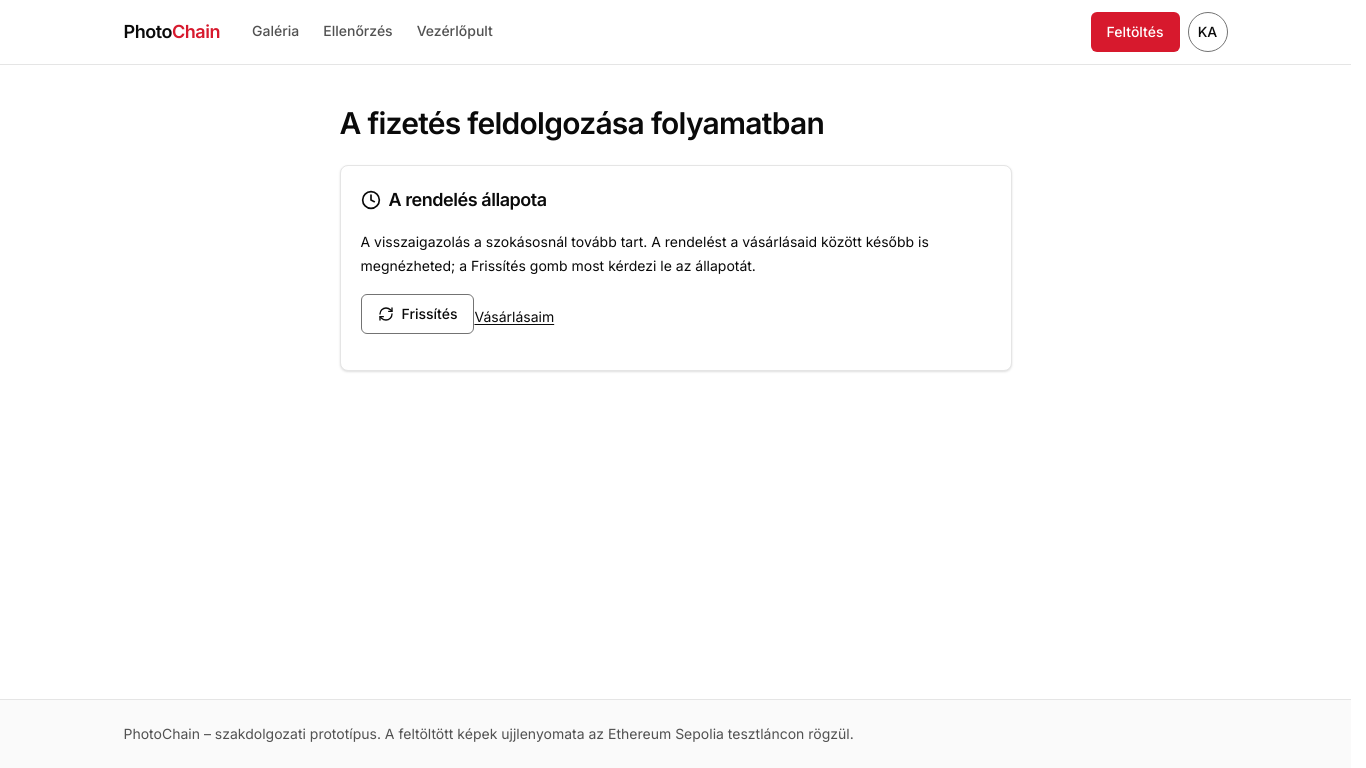
Scenario: CheckoutSuccessPage › tíz perc függés után a lekérdezés leáll: a töltésjelző eltűnik, a szöveg megmondja, hol nézhető meg később, és a „Frissítés” gomb kézzel kérdez
Expected: the heading "A fizetés feldolgozása folyamatban" is shown, [340,105,824,141]
Expected: the text "A visszaigazolás a szokásosnál tovább tart" is shown, [360,233,929,274]
Click the button "Frissítés": (418, 314) [360,294,474,334]
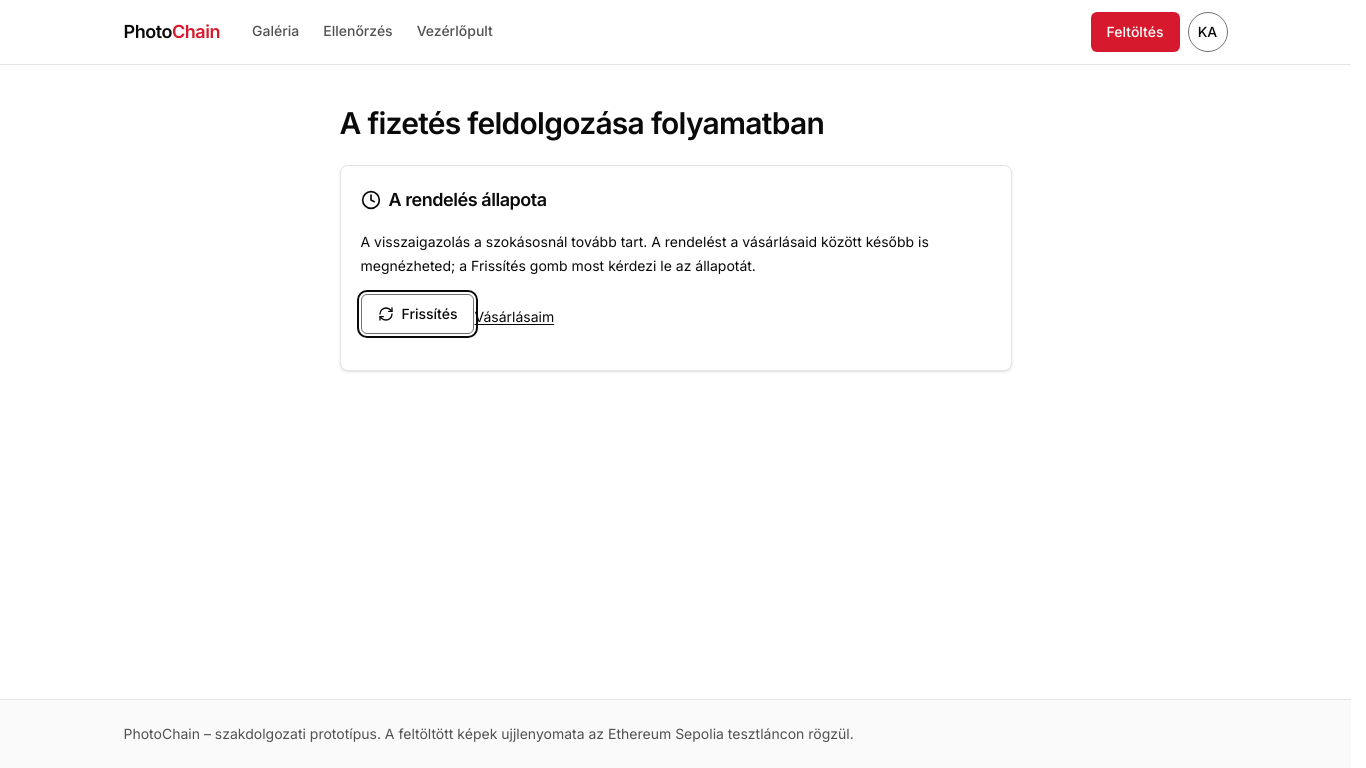
Click the button "Frissítés": (418, 314) [360,294,474,334]
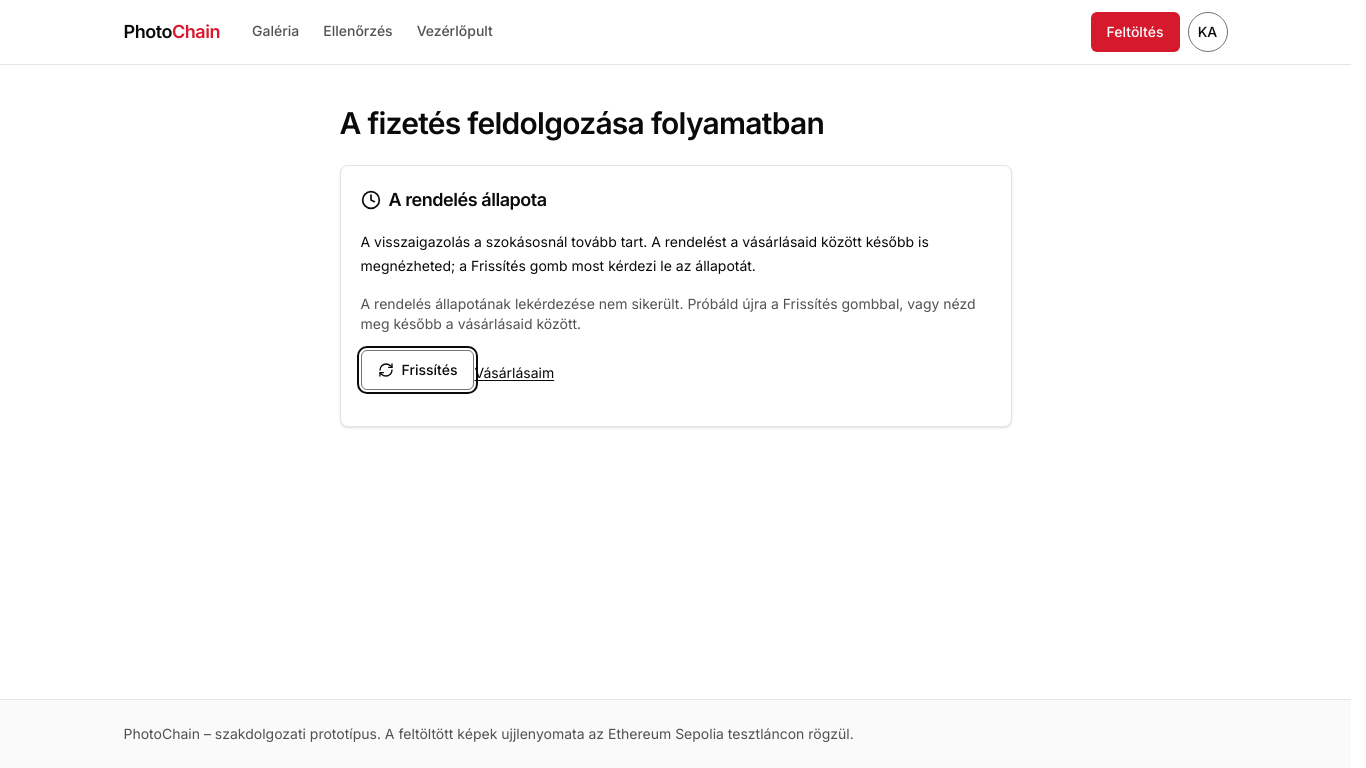
Now the text "A rendelés állapotának lekérdezése nem sikerült" is shown, box [360,295,976,332]
Click the button "Frissítés": (418, 370) [360,350,474,390]
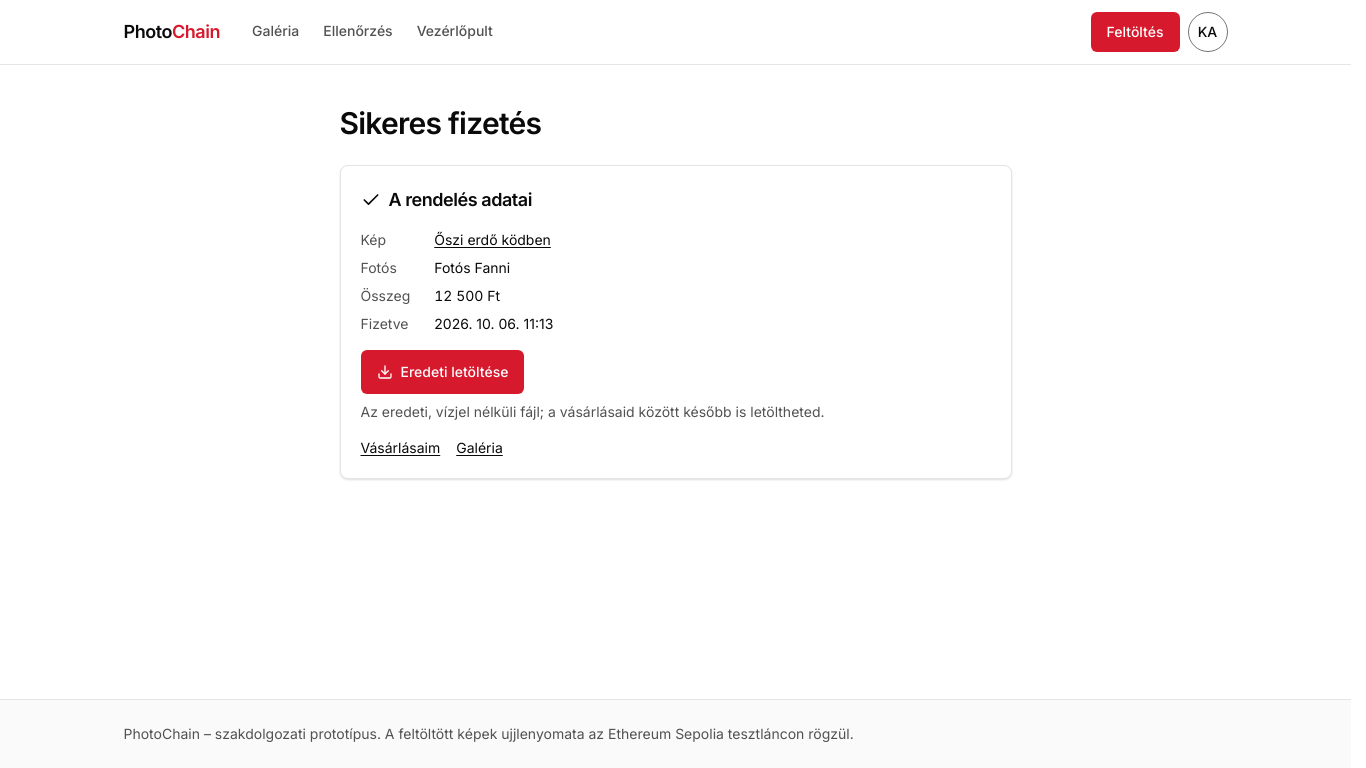
Now the heading "Sikeres fizetés" is shown, box [340,105,541,141]
